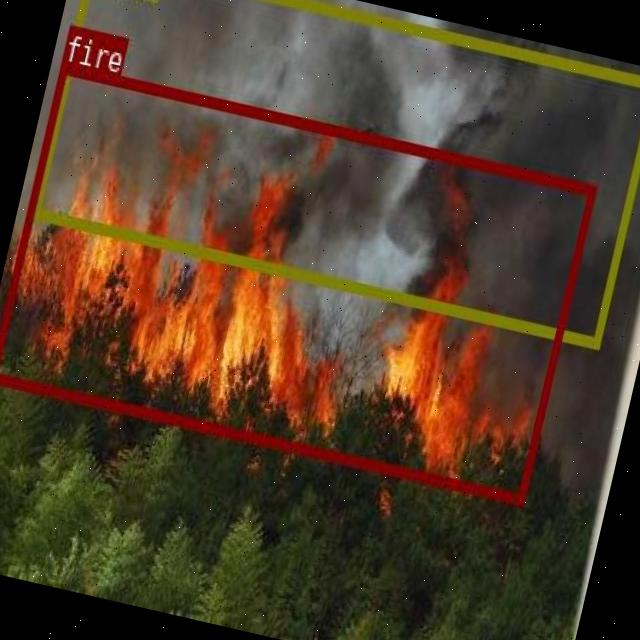fire: (0, 62, 595, 503)
smoke: (30, 0, 640, 346)
